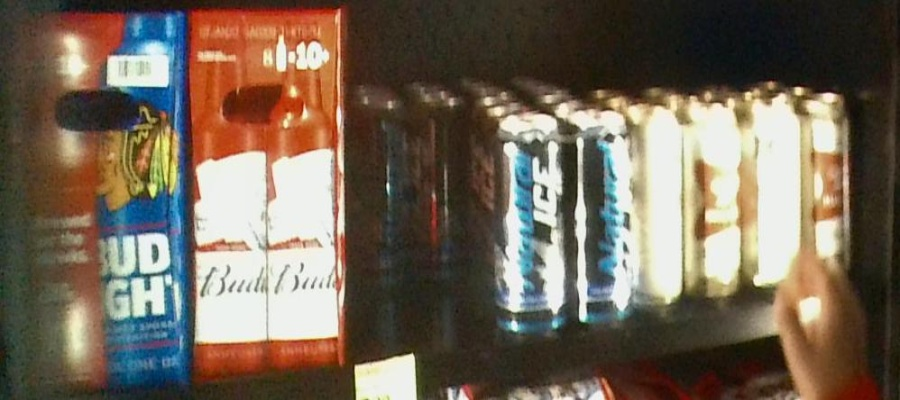bottle: (3, 10, 186, 390), (188, 10, 347, 373), (487, 108, 634, 335), (340, 89, 467, 278), (743, 87, 857, 282), (634, 107, 743, 302)
